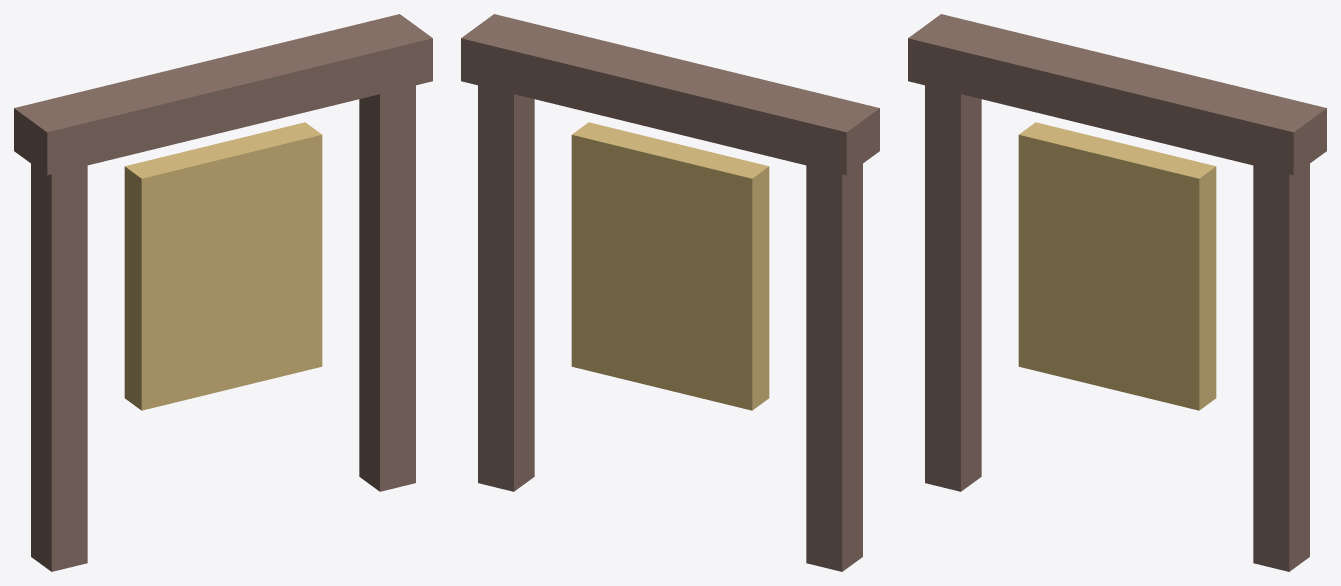
Rendered from dojo_bell.glb.
The picture shows the model from 3 angles, left to right: view 1: azimuth 30°, elevation 25°; view 2: azimuth 150°, elevation 25°; view 3: azimuth 330°, elevation 25°; orthographic projection.
Parts seen in each view (by area): view 1: wood_dark, gold; view 2: wood_dark, gold; view 3: wood_dark, gold.
Part boxes in pixels (left/top/right/bottom): wood_dark: left=14, top=14, right=432, bottom=571; gold: left=124, top=122, right=322, bottom=410; wood_dark: left=461, top=14, right=879, bottom=571; gold: left=571, top=122, right=769, bottom=410; wood_dark: left=908, top=14, right=1326, bottom=571; gold: left=1018, top=122, right=1216, bottom=410.
Size of the model in its own units: 2.35 by 2.6 by 0.35.
